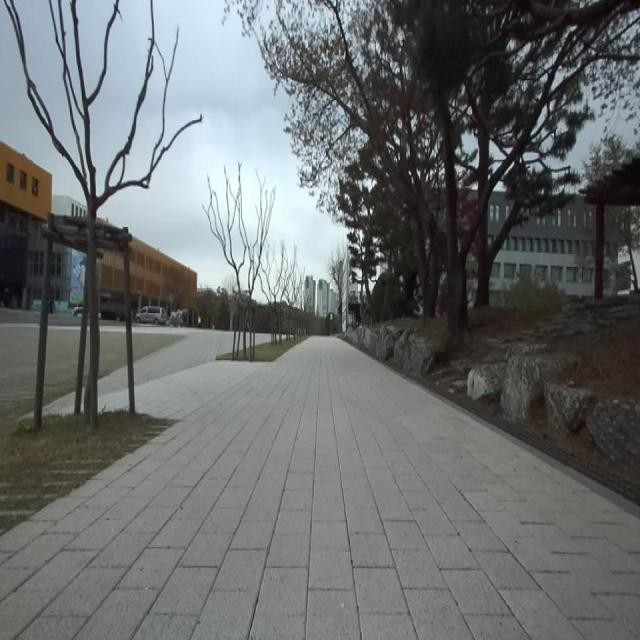sidewalk: (0, 339, 640, 638)
